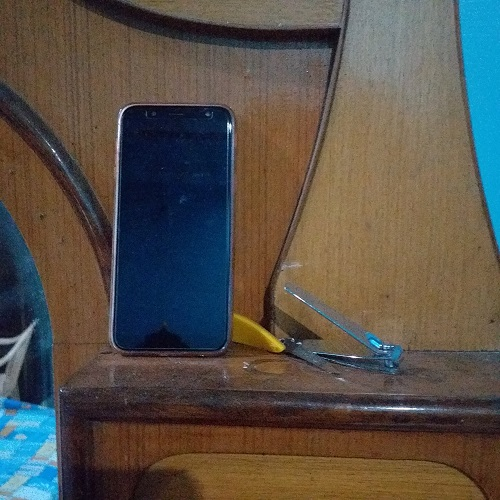mobile: (107, 96, 244, 380)
nailcutter: (265, 275, 412, 390)
